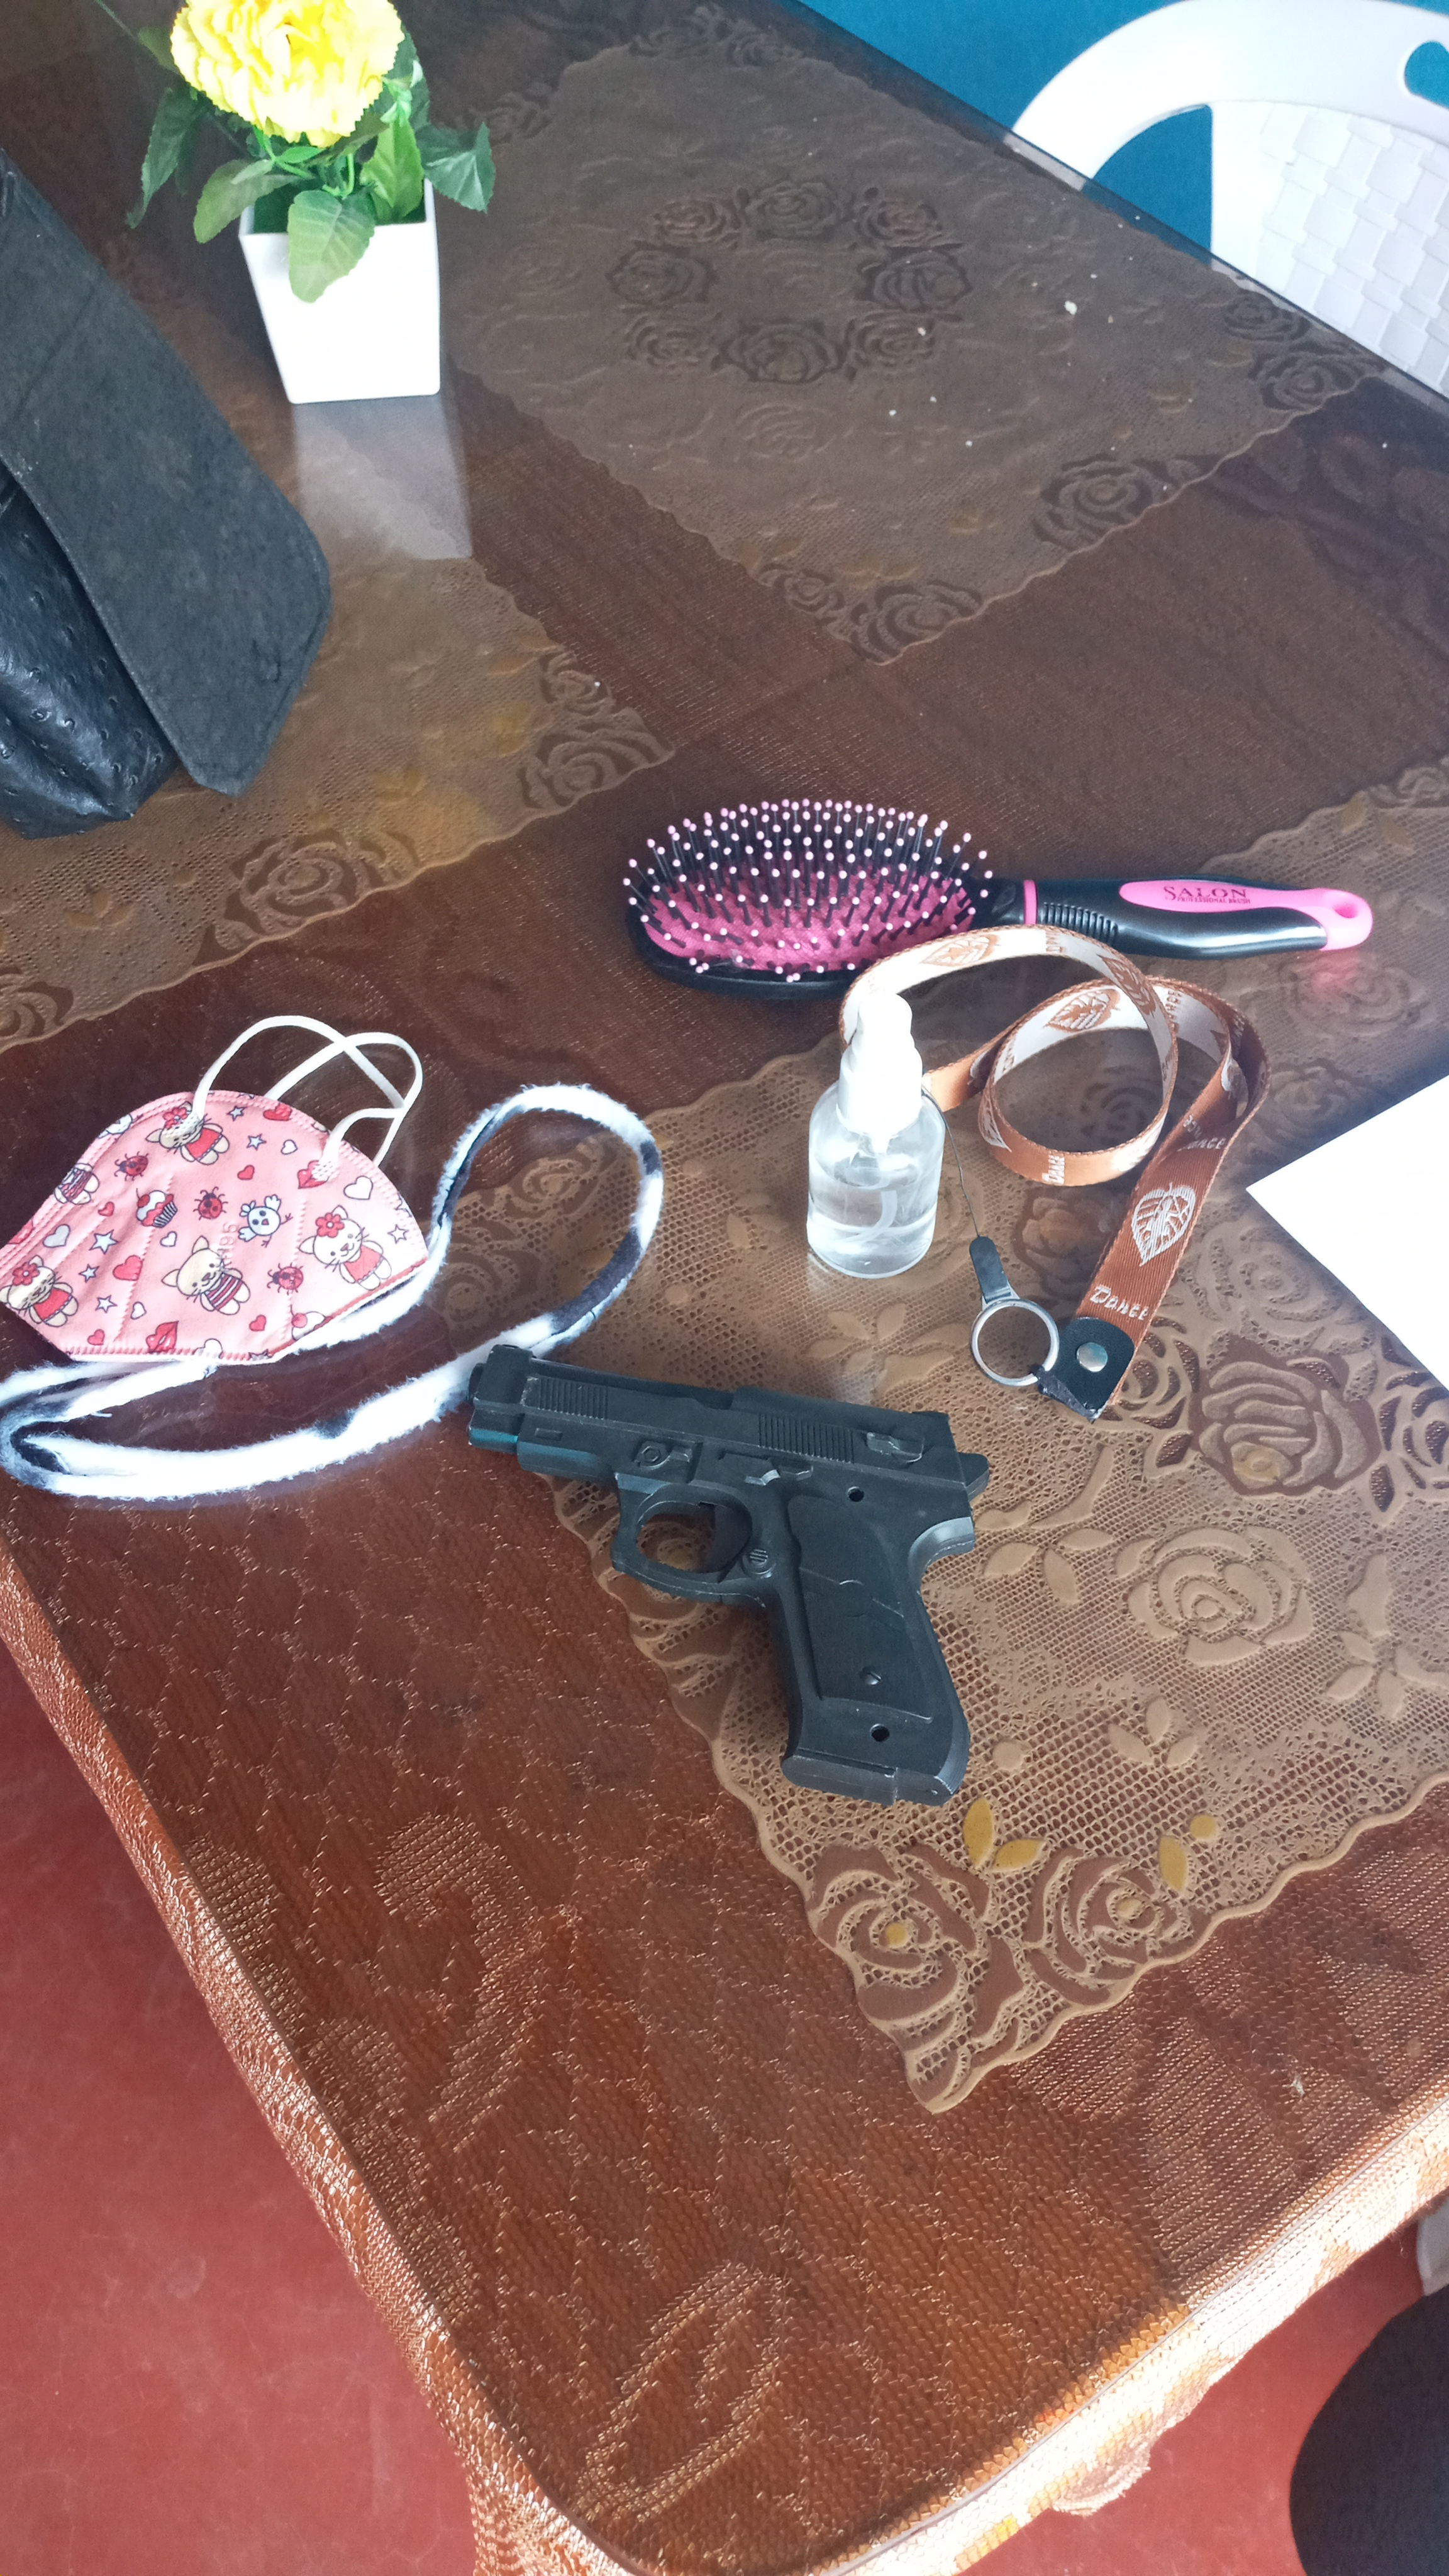Arma: (479, 1359, 994, 1635)
